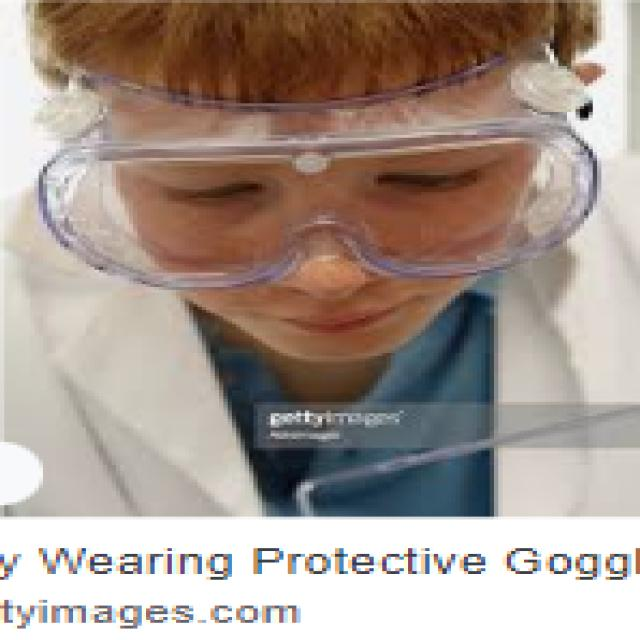glasses: (58, 117, 634, 300)
